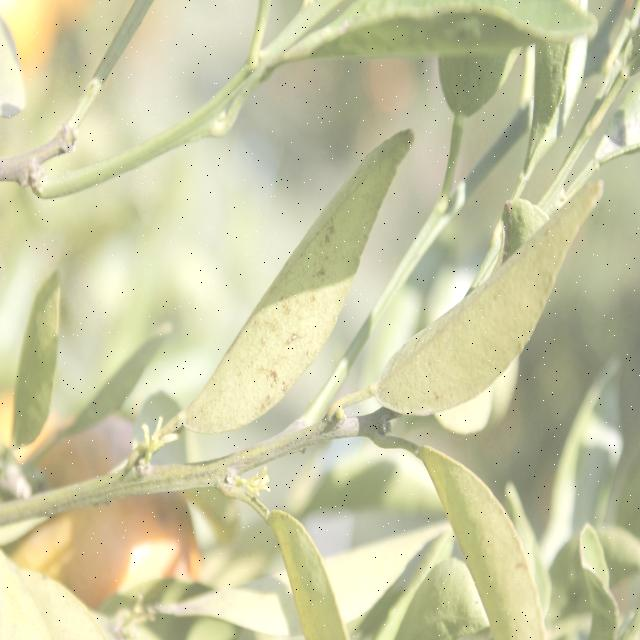melanose: (198, 132, 412, 432)
